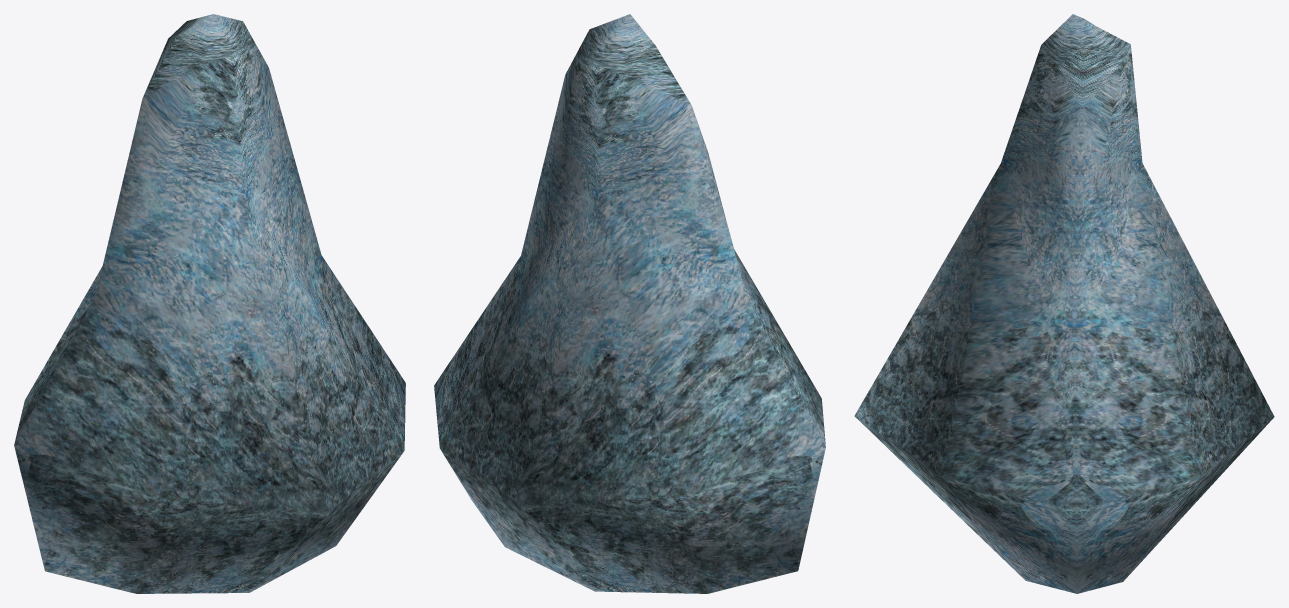
File: thm_all_cave_stalagmite_ice_c3_l1.fbx
The picture shows the model from 3 angles, left to right: view 1: azimuth 30°, elevation 25°; view 2: azimuth 150°, elevation 25°; view 3: azimuth 270°, elevation 25°; orthographic projection. The views are drawn at different scales.
Visible parts, largest first — view 1: mesh_node; view 2: mesh_node; view 3: mesh_node.
Boxes of the visible parts, x1,y1,x2,y2 form: mesh_node: (14, 14, 405, 593); mesh_node: (434, 14, 825, 593); mesh_node: (854, 14, 1274, 593).
Size of the model in its own units: 4.54 by 6.26 by 4.36.
